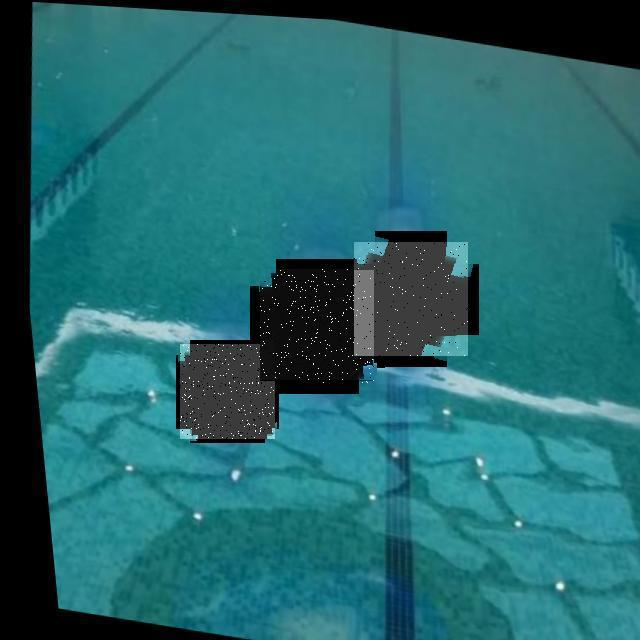swimming: (260, 270, 374, 384), (354, 242, 468, 356), (180, 344, 275, 439)
